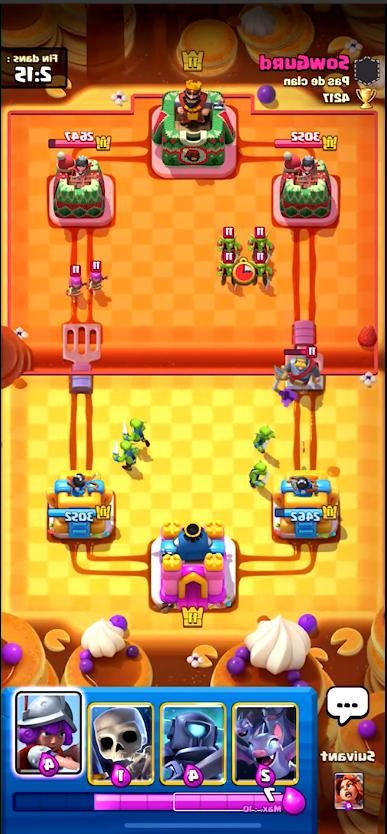archere: (65, 266, 83, 302), (88, 260, 103, 295)
chevalier: (277, 347, 321, 394)
gobelin: (121, 416, 152, 444), (113, 439, 139, 466), (250, 226, 272, 257), (253, 425, 276, 454), (216, 227, 238, 254), (217, 256, 236, 284), (250, 458, 266, 491), (256, 253, 272, 280)
